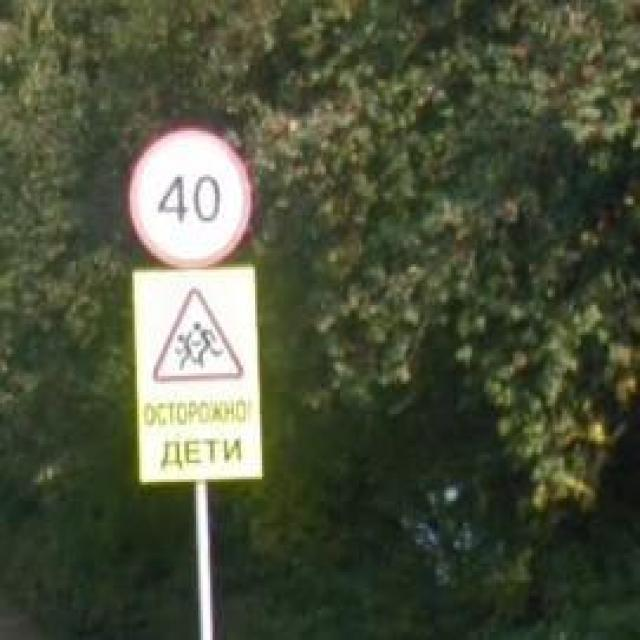Ograniczenie predkosci do 40: (128, 128, 252, 270)
